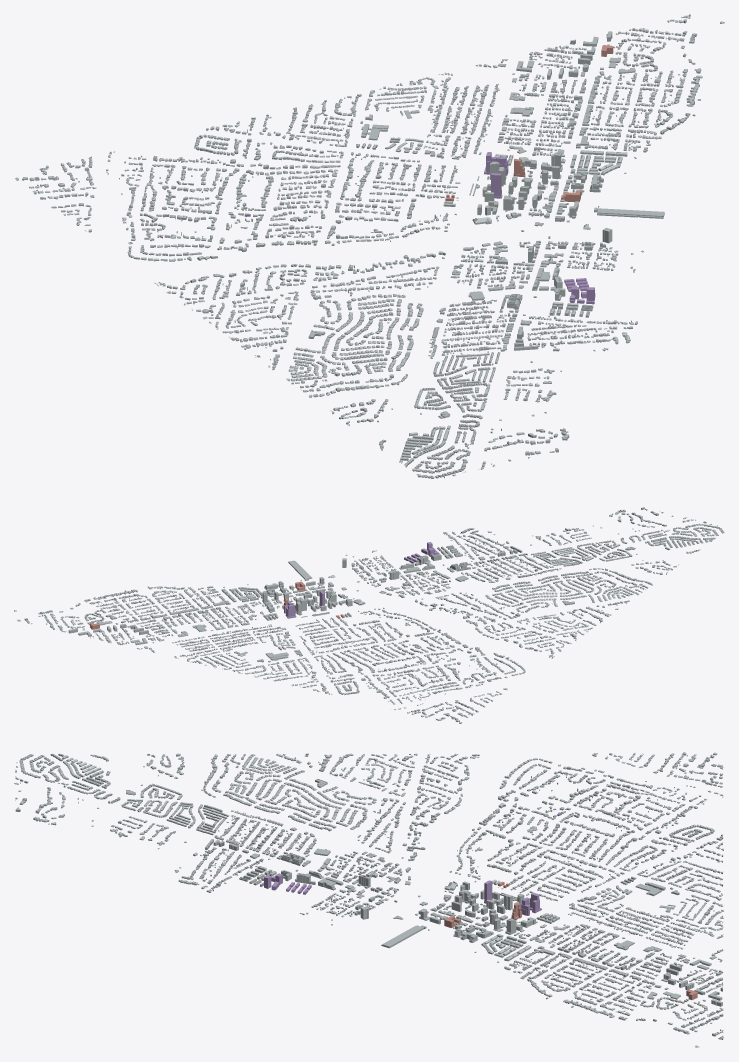
Rendered from port-credit.glb.
3 renders of one model, top to bottom at view 1: azimuth 30°, elevation 25°; view 2: azimuth 150°, elevation 25°; view 3: azimuth 270°, elevation 25°, orthographic. The views are drawn at different scales.
Visible parts, largest first — view 1: existing-92, existing-102, existing-93, existing-103, existing-91; view 2: existing-92, existing-102, existing-93, existing-103, existing-91; view 3: existing-92, existing-102, existing-93, existing-103, existing-91.
Boxes of the visible parts, x1=… form: existing-92: x1=119, y1=134, x2=561, y2=478; existing-102: x1=206, y1=36, x2=598, y2=171; existing-93: x1=478, y1=173, x2=664, y2=469; existing-103: x1=570, y1=14, x2=724, y2=175; existing-91: x1=15, y1=151, x2=114, y2=232; existing-92: x1=271, y1=521, x2=724, y2=704; existing-102: x1=78, y1=591, x2=332, y2=694; existing-93: x1=264, y1=507, x2=695, y2=597; existing-103: x1=14, y1=584, x2=262, y2=633; existing-91: x1=391, y1=688, x2=507, y2=723; existing-92: x1=15, y1=753, x2=714, y2=931; existing-102: x1=505, y1=834, x2=723, y2=1000; existing-93: x1=14, y1=776, x2=493, y2=948; existing-103: x1=474, y1=934, x2=723, y2=1047; existing-91: x1=592, y1=752, x2=723, y2=797.
Size of the model in its own units: 3699 by 125 by 3817.
